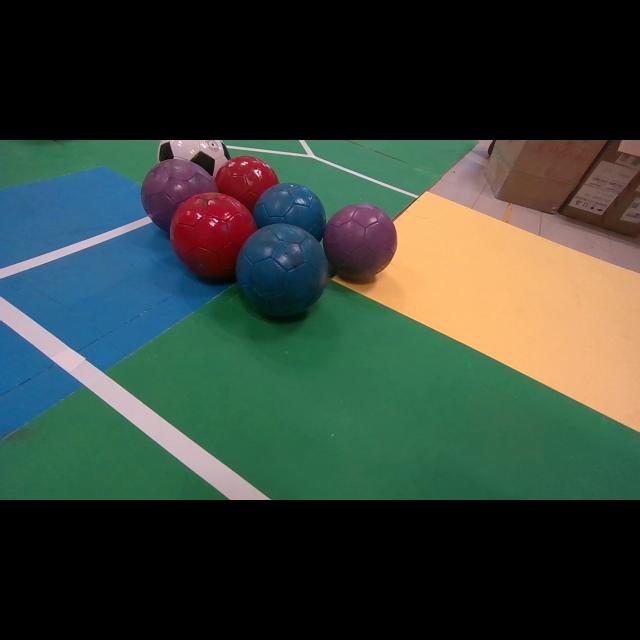B: (236, 224, 328, 316), (254, 182, 326, 241)
P: (141, 159, 218, 232), (324, 204, 398, 279)
R: (170, 192, 258, 278), (215, 155, 279, 212)
